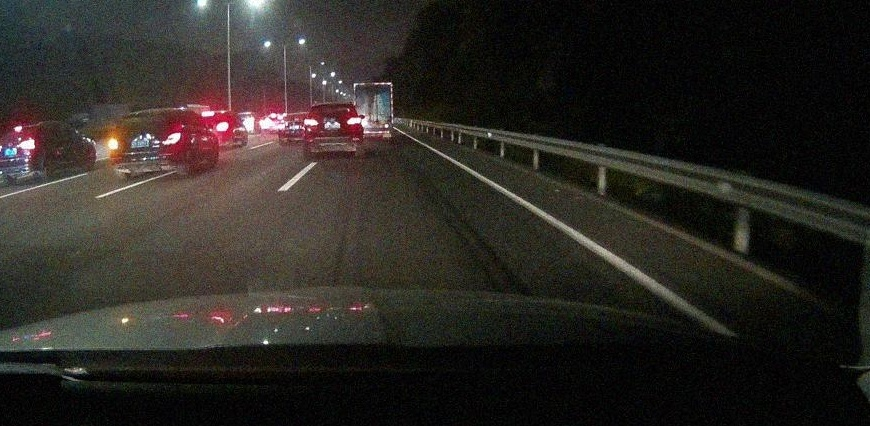L_light: (108, 137, 120, 150), (304, 119, 318, 125)
R_light: (162, 132, 181, 146), (346, 117, 361, 124)
T_light: (146, 112, 160, 116), (327, 104, 338, 107)
night-no: (108, 107, 189, 179), (304, 102, 363, 158)
